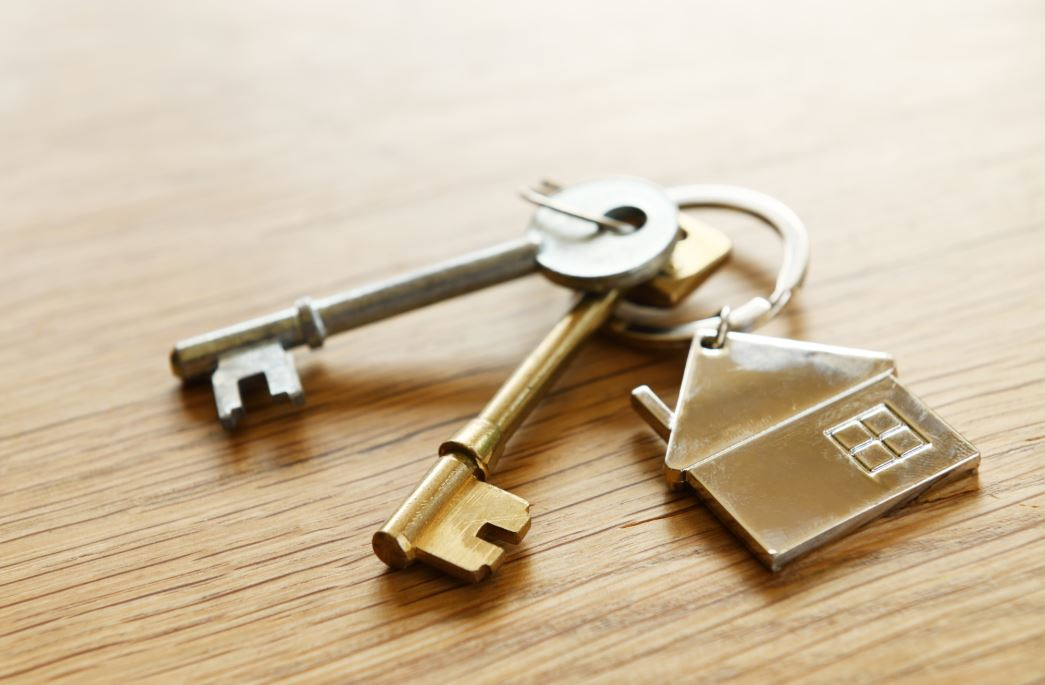key: (167, 170, 750, 582)
